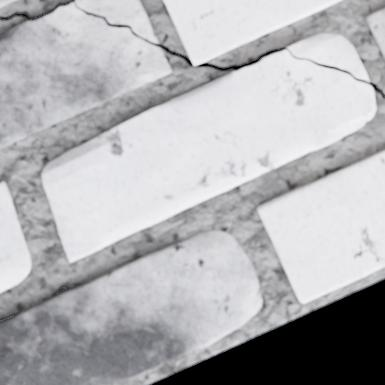brick: (0, 230, 261, 384), (257, 148, 384, 301), (164, 0, 338, 64), (0, 180, 31, 290), (365, 7, 384, 59), (0, 0, 15, 7)
broken_brick: (43, 50, 374, 260), (0, 3, 171, 148), (286, 33, 368, 80), (76, 0, 158, 42)
crack: (0, 0, 384, 97)
